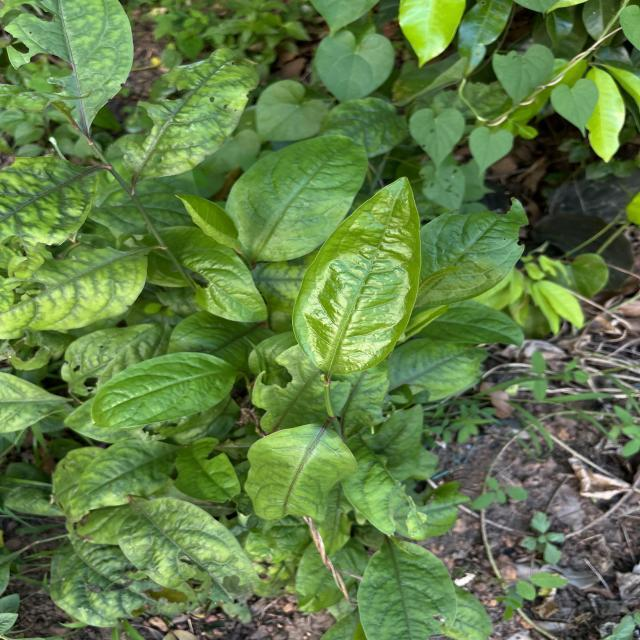Plumbago indica: (290, 173, 424, 377), (224, 134, 368, 263), (126, 50, 266, 182), (109, 496, 267, 607), (88, 349, 239, 432), (424, 194, 530, 310), (242, 426, 363, 524), (350, 538, 460, 640)
